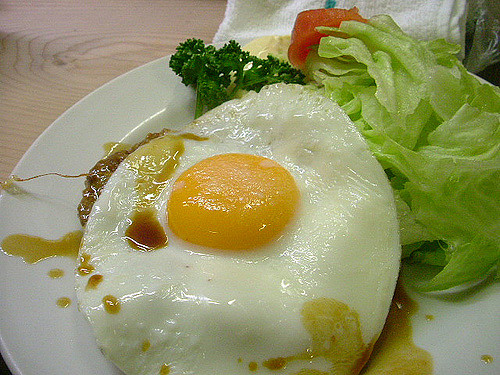chopped lettuce: (355, 32, 500, 295)
fried egg: (94, 95, 403, 375)
